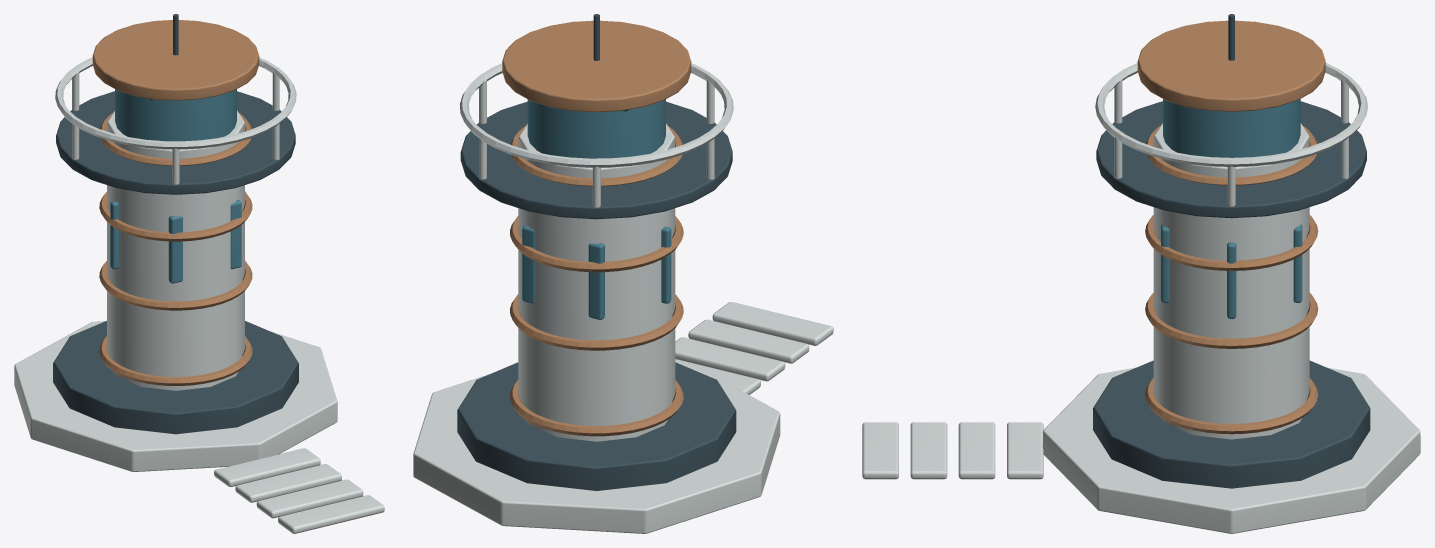
File: HarborSignal112.fbx
The picture shows the model from 3 angles, left to right: view 1: azimuth 30°, elevation 25°; view 2: azimuth 150°, elevation 25°; view 3: azimuth 270°, elevation 25°; orthographic projection. The views are drawn at different scales.
Parts seen in each view (by area): view 1: Navigation tower, Octagonal stone foundation, Weathered plinth, Lantern cap, Observation balcony, Lantern glass, Balcony handrail, Walkway slab.003, Walkway slab.002, Walkway slab.001, Walkway slab, Tower courses.001 (+6 smaller); view 2: Navigation tower, Octagonal stone foundation, Weathered plinth, Lantern cap, Observation balcony, Lantern glass, Balcony handrail, Walkway slab.002, Walkway slab.003, Walkway slab.001, Tower courses.001, Tower courses (+6 smaller); view 3: Navigation tower, Octagonal stone foundation, Weathered plinth, Lantern cap, Observation balcony, Lantern glass, Balcony handrail, Tower courses.001, Tower courses, Tower courses.002, Walkway slab.001, Walkway slab.002 (+5 smaller).
Part boxes in pixels (left/top/right/bottom): Navigation tower: left=107, top=110, right=244, bottom=390; Octagonal stone foundation: left=14, top=321, right=337, bottom=471; Weathered plinth: left=53, top=321, right=298, bottom=434; Lantern cap: left=92, top=20, right=259, bottom=100; Observation balcony: left=56, top=91, right=295, bottom=194; Lantern glass: left=115, top=89, right=236, bottom=141; Balcony handrail: left=55, top=57, right=296, bottom=149; Walkway slab.003: left=278, top=495, right=384, bottom=533; Walkway slab.002: left=256, top=479, right=363, bottom=518; Walkway slab.001: left=235, top=464, right=341, bottom=502; Walkway slab: left=214, top=448, right=320, bottom=486; Tower courses.001: left=99, top=261, right=252, bottom=310; Navigation tower: left=518, top=123, right=675, bottom=441; Octagonal stone foundation: left=413, top=362, right=780, bottom=533; Weathered plinth: left=457, top=362, right=736, bottom=490; Lantern cap: left=502, top=20, right=691, bottom=112; Observation balcony: left=460, top=101, right=732, bottom=219; Lantern glass: left=527, top=99, right=665, bottom=158; Balcony handrail: left=459, top=63, right=733, bottom=167; Walkway slab.002: left=688, top=319, right=809, bottom=363; Walkway slab.003: left=712, top=302, right=833, bottom=345; Walkway slab.001: left=675, top=337, right=785, bottom=381; Tower courses.001: left=510, top=294, right=683, bottom=350; Tower courses: left=510, top=380, right=683, bottom=436; Navigation tower: left=1153, top=122, right=1309, bottom=439; Octagonal stone foundation: left=1042, top=367, right=1420, bottom=533; Weathered plinth: left=1093, top=360, right=1370, bottom=488; Lantern cap: left=1137, top=20, right=1325, bottom=111; Observation balcony: left=1096, top=101, right=1366, bottom=218; Lantern glass: left=1163, top=99, right=1300, bottom=157; Balcony handrail: left=1095, top=63, right=1367, bottom=166; Tower courses.001: left=1145, top=293, right=1318, bottom=348; Tower courses: left=1145, top=378, right=1318, bottom=434; Tower courses.002: left=1145, top=215, right=1318, bottom=270; Walkway slab.001: left=958, top=422, right=995, bottom=479; Walkway slab.002: left=910, top=422, right=947, bottom=479.
Bounding box in the file's own units: 329 × 423 × 487.
